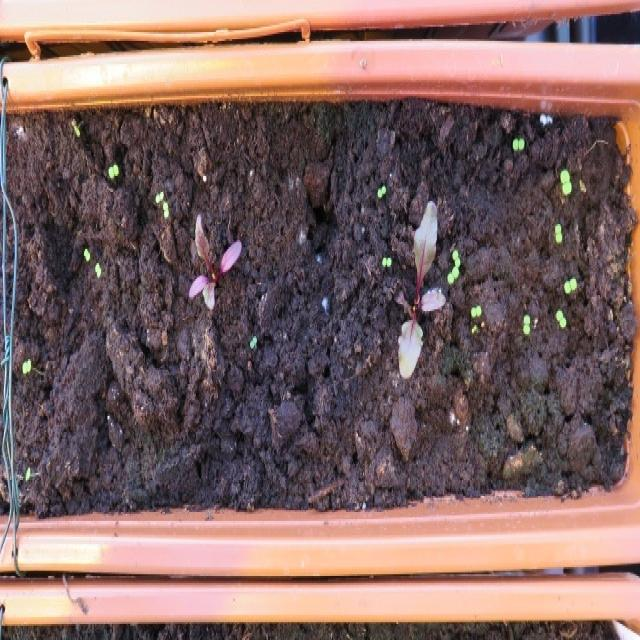crop: (182, 203, 244, 311)
weed: (557, 166, 573, 196), (550, 218, 564, 244), (559, 274, 578, 292), (157, 196, 170, 218), (519, 311, 530, 336), (553, 306, 566, 327), (509, 134, 526, 150), (18, 354, 32, 373), (105, 160, 119, 178), (151, 185, 166, 201), (377, 254, 393, 267), (466, 302, 482, 315), (91, 260, 102, 278), (374, 182, 386, 198), (80, 243, 91, 260)
